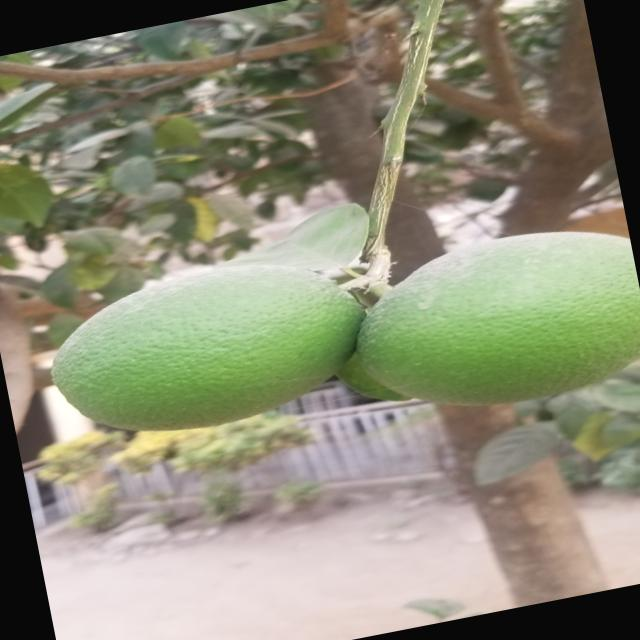Unripe: (34, 243, 368, 442), (343, 213, 640, 429)
